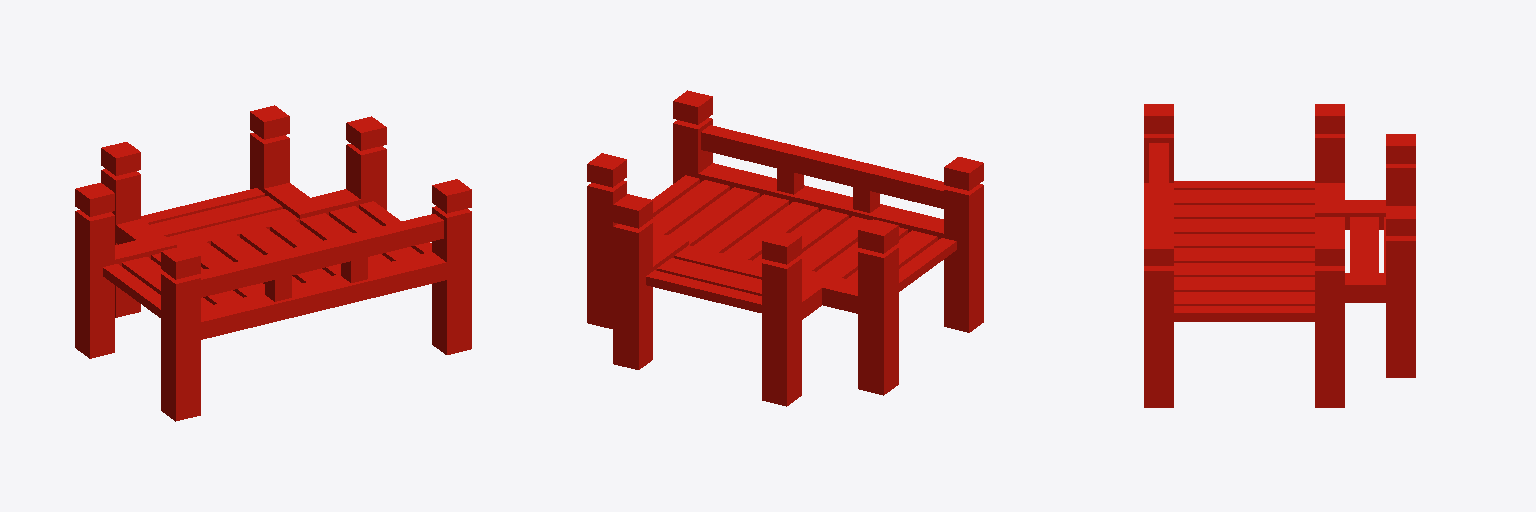
3 views of the same model, side by side, from view 1: azimuth 30°, elevation 25°; view 2: azimuth 150°, elevation 25°; view 3: azimuth 270°, elevation 25° (orthographic).
Visible parts, largest first — view 1: cube; view 2: cube; view 3: cube.
Part boxes in pixels (x1,y1,x2,y2): cube: (75, 105, 471, 421); cube: (587, 90, 983, 406); cube: (1144, 104, 1415, 407).
Bounding box in the file's own units: 1.09 × 0.5625 × 0.8672.
Materials: 1 (1 with a texture image).